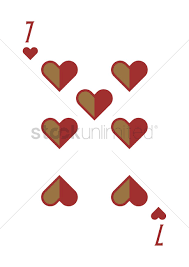seven of hearts: (8, 12, 180, 254)
